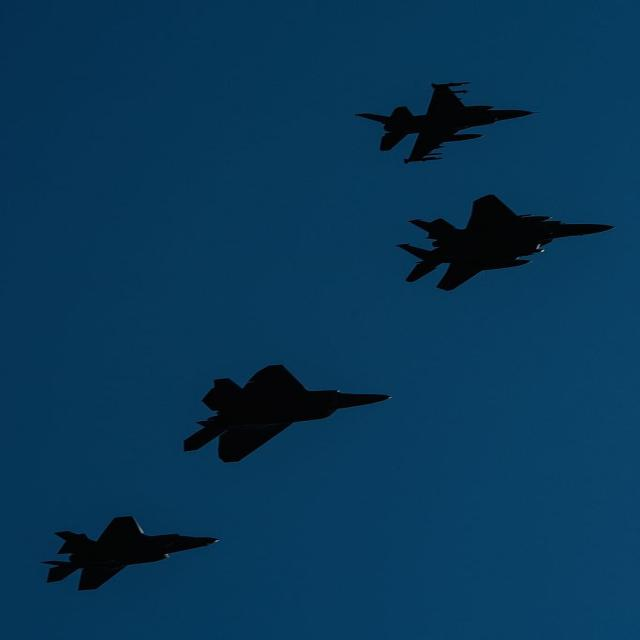MIL_Plane: (394, 193, 618, 291), (182, 364, 394, 463), (353, 82, 541, 165), (38, 515, 222, 591)
